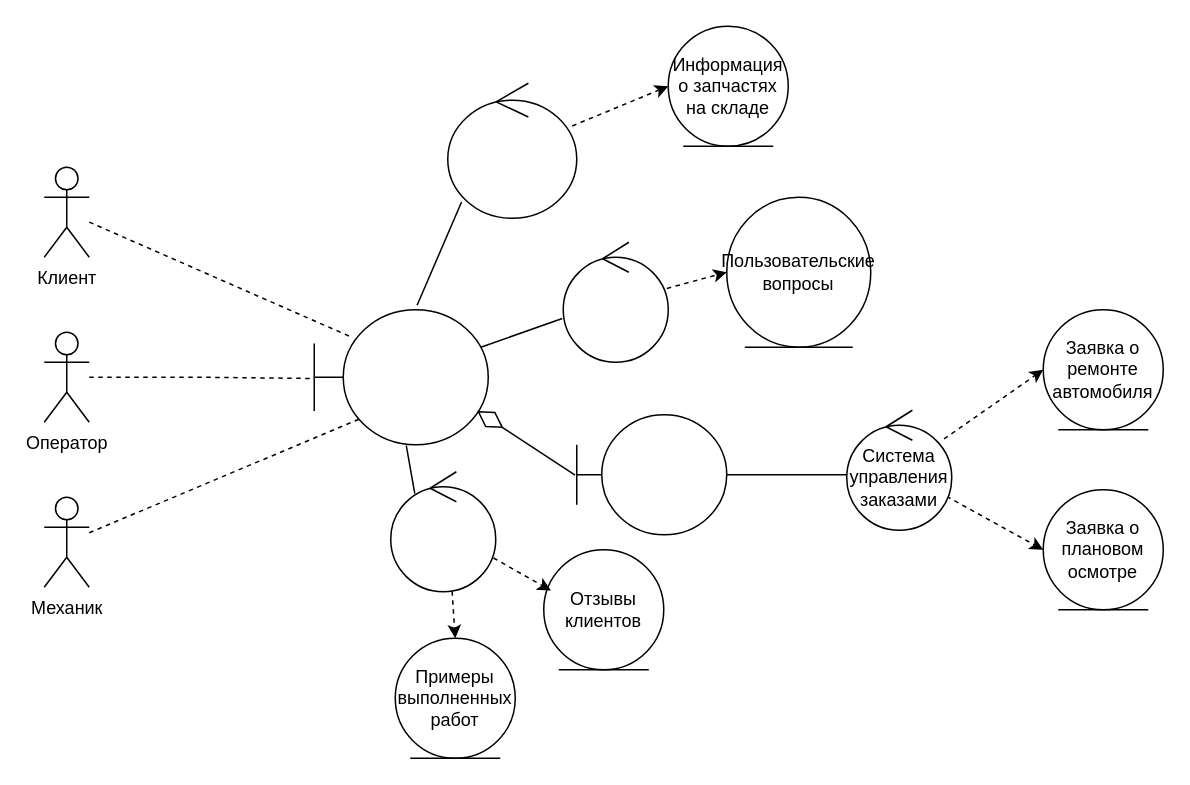
This 1190x785 diagram has some shape labels left out. The centre of each missing label's shape, as x and y in pixels:
Сайт авторемонтного сервиса: (x=400, y=376)
Система контроля качества: (x=442, y=531)
Система контроля наличием запчастей: (x=511, y=150)
Система обратной связи: (x=615, y=301)
Форма оформления заказов: (x=651, y=474)
